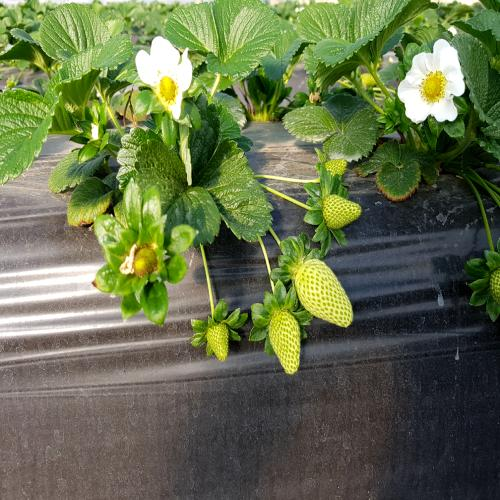unripe: (287, 247, 359, 339), (267, 302, 302, 370)
